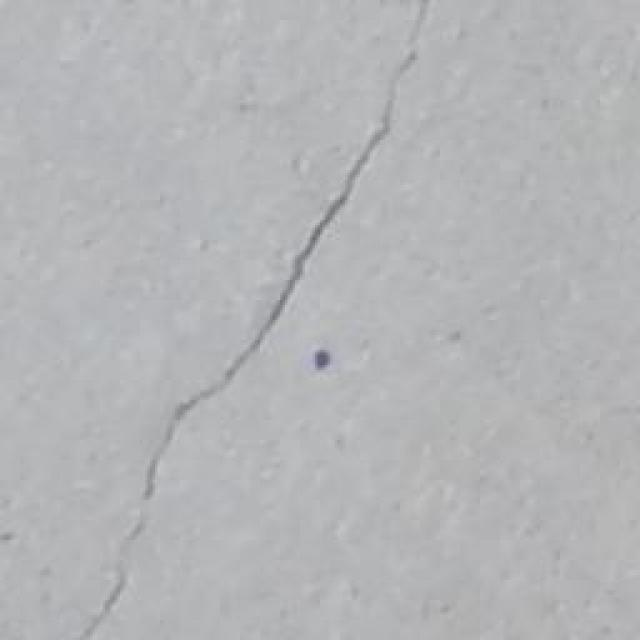concrete-crack: (78, 0, 428, 640)
